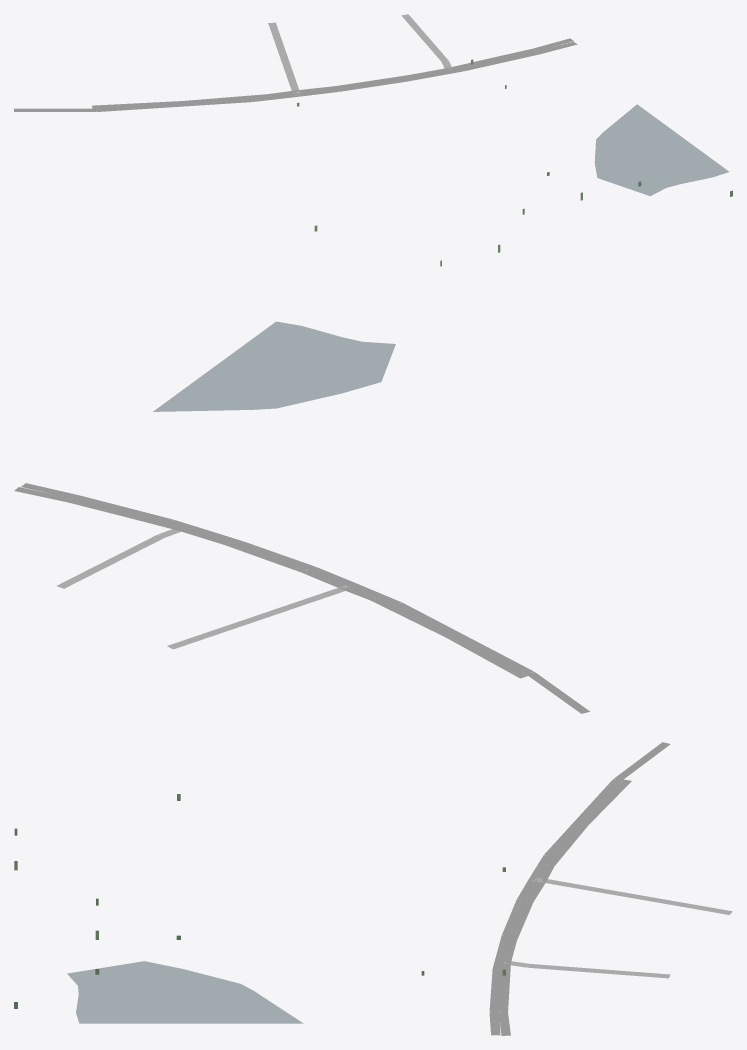
3 renders of one model, top to bottom at view 1: azimuth 30°, elevation 25°; view 2: azimuth 150°, elevation 25°; view 3: azimuth 270°, elevation 25°, orthographic. The views are drawn at different scales.
Bounding box in the file's own units: 510 × 10.02 × 530.
